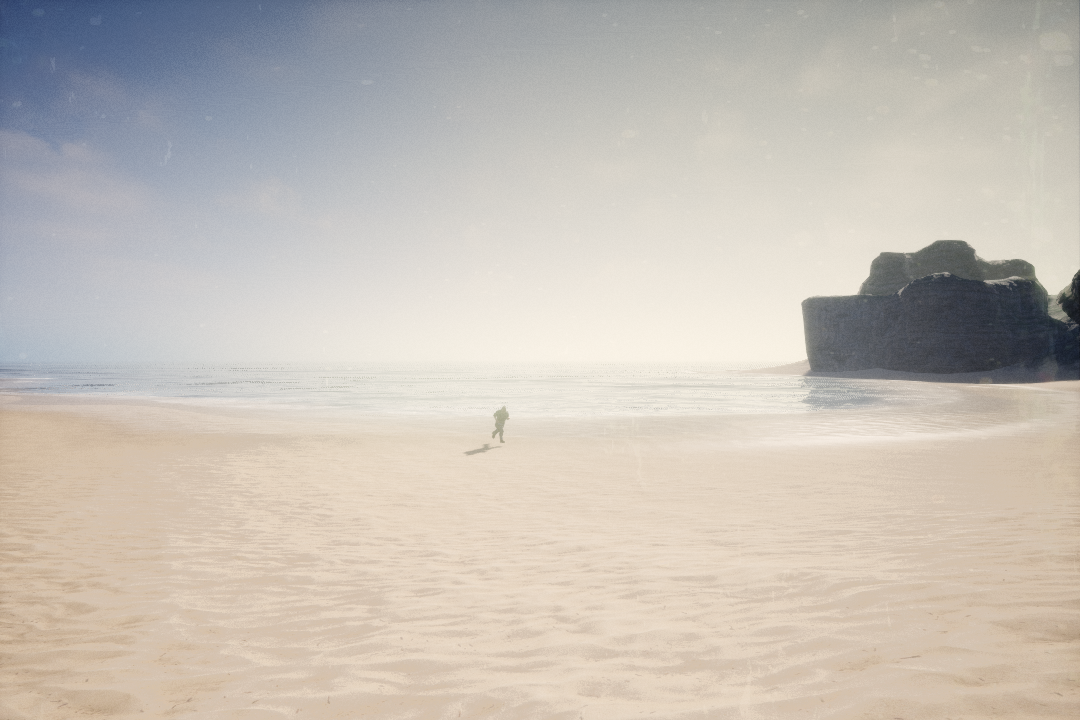person: (490, 399, 515, 447)
